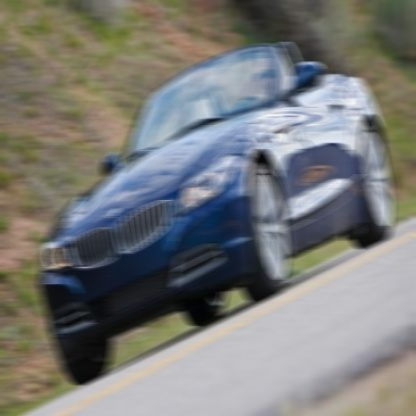Vehicle: (39, 37, 395, 390)
